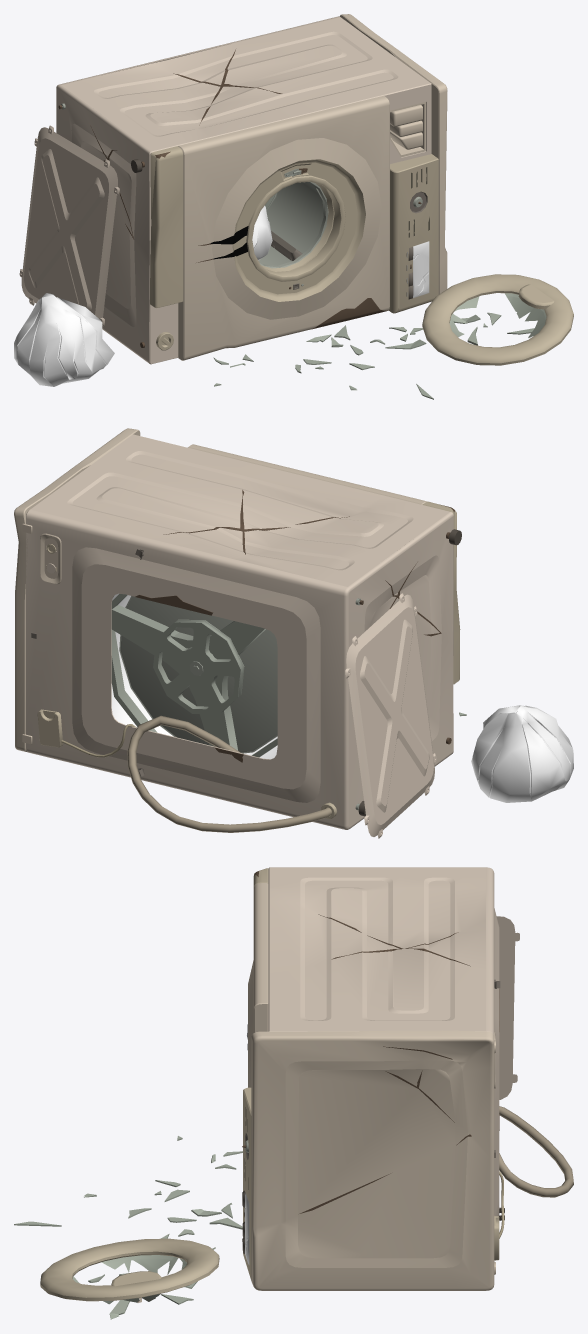
File: BrokenMachine.fbx
3 renders of one model, top to bottom at view 1: azimuth 30°, elevation 25°; view 2: azimuth 150°, elevation 25°; view 3: azimuth 270°, elevation 25°, orthographic. The views are drawn at different scales.
Visible parts, largest first — view 1: 03_Trash; view 2: 03_Trash; view 3: 03_Trash.
Part boxes in pixels (bbox=[...]): 03_Trash: bbox=[14, 14, 573, 399]; 03_Trash: bbox=[14, 428, 573, 838]; 03_Trash: bbox=[14, 867, 573, 1319].
Bounding box in the file's own units: 136 × 59.77 × 118.
